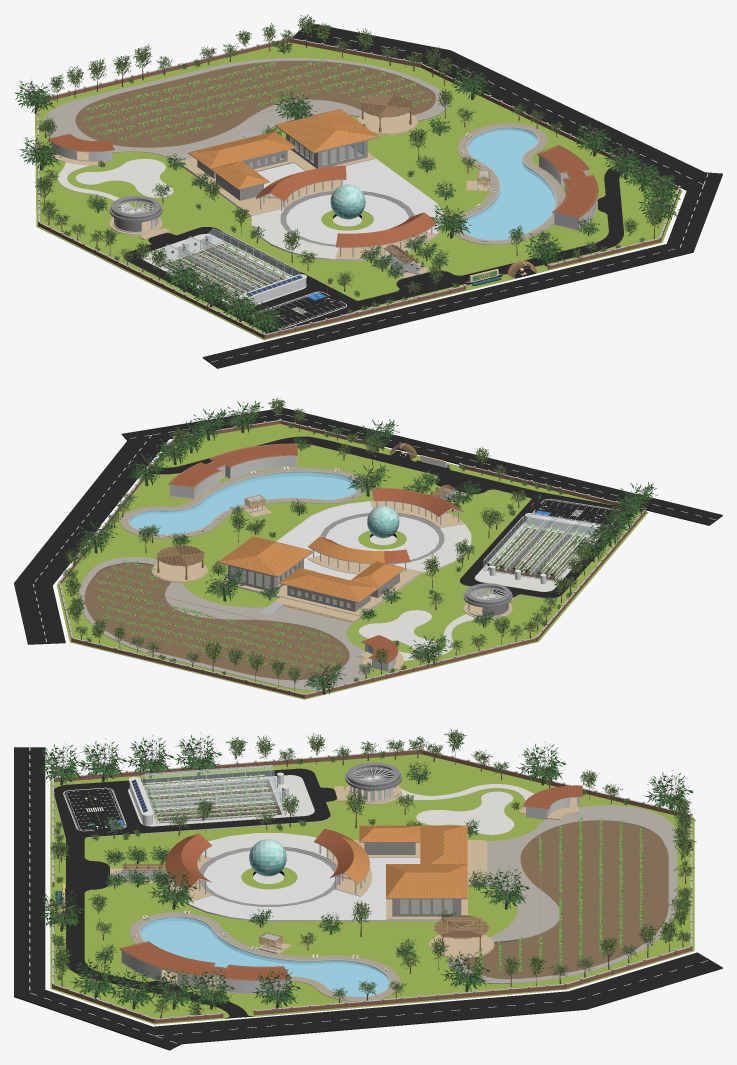
File: melon_farm.glb
3 renders of one model, top to bottom at view 1: azimuth 30°, elevation 25°; view 2: azimuth 150°, elevation 25°; view 3: azimuth 270°, elevation 25°, orthographic. The views are drawn at different scales.
Visible parts, largest first — view 1: EXP_Mesh400, EXP_Mesh1, EXP_merged_035, EXP_Pond_Water, EXP_Boundary_Wall, EXP_merged_027, EXP_Lot_Asphalt, EXP_GH_Glass, EXP_Pool_Deck, EXP_GH_Interior, EXP_GH_Frames, EXP_merged_029 (+21 smaller); view 2: EXP_Mesh400, EXP_Mesh1, EXP_merged_035, EXP_merged_027, EXP_Pond_Water, EXP_Boundary_Wall, EXP_GH_Glass, EXP_Lot_Asphalt, EXP_Pool_Deck, EXP_GH_Floor_Mud, EXP_merged_029, EXP_GH_Interior (+22 smaller); view 3: EXP_Mesh400, EXP_Mesh1, EXP_merged_035, EXP_Boundary_Wall, EXP_Lot_Asphalt, EXP_Pond_Water, EXP_GH_Glass, EXP_merged_027, EXP_Pool_Deck, EXP_GH_Floor_Mud, EXP_merged_029, EXP_GH_Interior (+24 smaller).
Part boxes in pixels (box(x1,y1,x2,y2)): EXP_Mesh400: box(43, 58, 681, 307); EXP_Mesh1: box(35, 42, 616, 340); EXP_merged_035: box(202, 23, 722, 368); EXP_Pond_Water: box(461, 128, 555, 240); EXP_Boundary_Wall: box(36, 38, 680, 339); EXP_merged_027: box(81, 59, 431, 299); EXP_Lot_Asphalt: box(123, 227, 367, 333); EXP_GH_Glass: box(160, 228, 299, 301); EXP_Pool_Deck: box(453, 123, 564, 244); EXP_GH_Interior: box(165, 235, 292, 302); EXP_GH_Frames: box(157, 228, 300, 300); EXP_merged_029: box(141, 234, 346, 329); EXP_Mesh400: box(78, 424, 537, 689); EXP_Mesh1: box(56, 444, 648, 699); EXP_merged_035: box(14, 408, 722, 644); EXP_merged_027: box(95, 522, 592, 673); EXP_Pond_Water: box(129, 472, 357, 534); EXP_Boundary_Wall: box(58, 418, 646, 698); EXP_GH_Glass: box(484, 512, 596, 580); EXP_Lot_Asphalt: box(459, 491, 633, 598); EXP_Pool_Deck: box(120, 467, 366, 538); EXP_GH_Floor_Mud: box(487, 527, 592, 580); EXP_merged_029: box(474, 499, 619, 591); EXP_GH_Interior: box(487, 523, 592, 578); EXP_Mesh400: box(50, 762, 677, 1024); EXP_Mesh1: box(50, 754, 694, 1016); EXP_merged_035: box(14, 747, 722, 1050); EXP_Boundary_Wall: box(52, 748, 692, 1023); EXP_Lot_Asphalt: box(54, 768, 330, 838); EXP_Pond_Water: box(140, 917, 389, 996); EXP_GH_Glass: box(142, 765, 285, 823); EXP_merged_027: box(143, 774, 643, 971); EXP_Pool_Deck: box(129, 912, 400, 1001); EXP_GH_Floor_Mud: box(147, 779, 281, 822); EXP_merged_029: box(63, 775, 314, 831); EXP_GH_Interior: box(146, 771, 282, 822).
Bounding box in the file's own units: 227 × 14.84 × 225.
91 materials, 2 textured.
